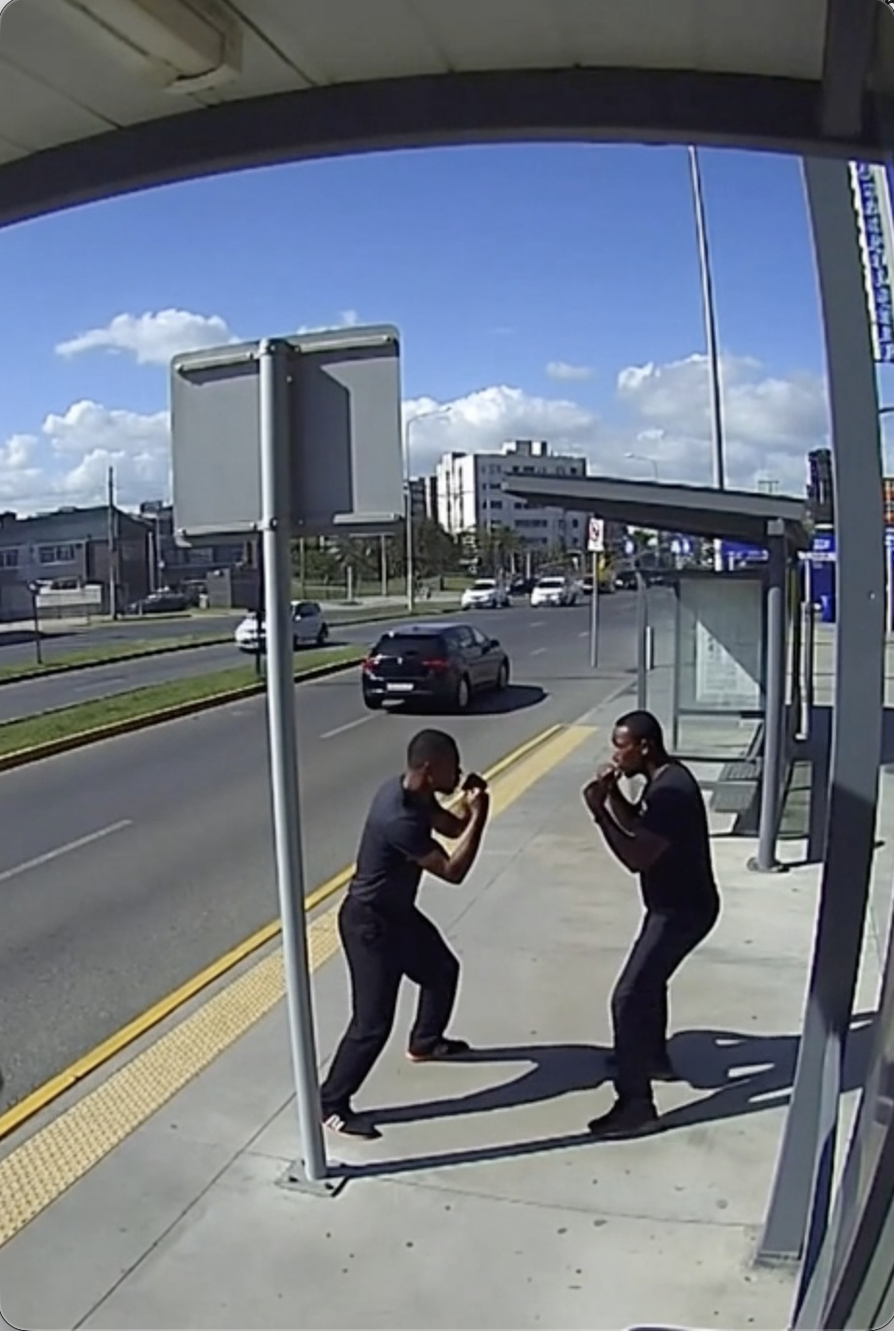Assault: (580, 709, 723, 1138)
Fighting: (316, 730, 492, 1141)
